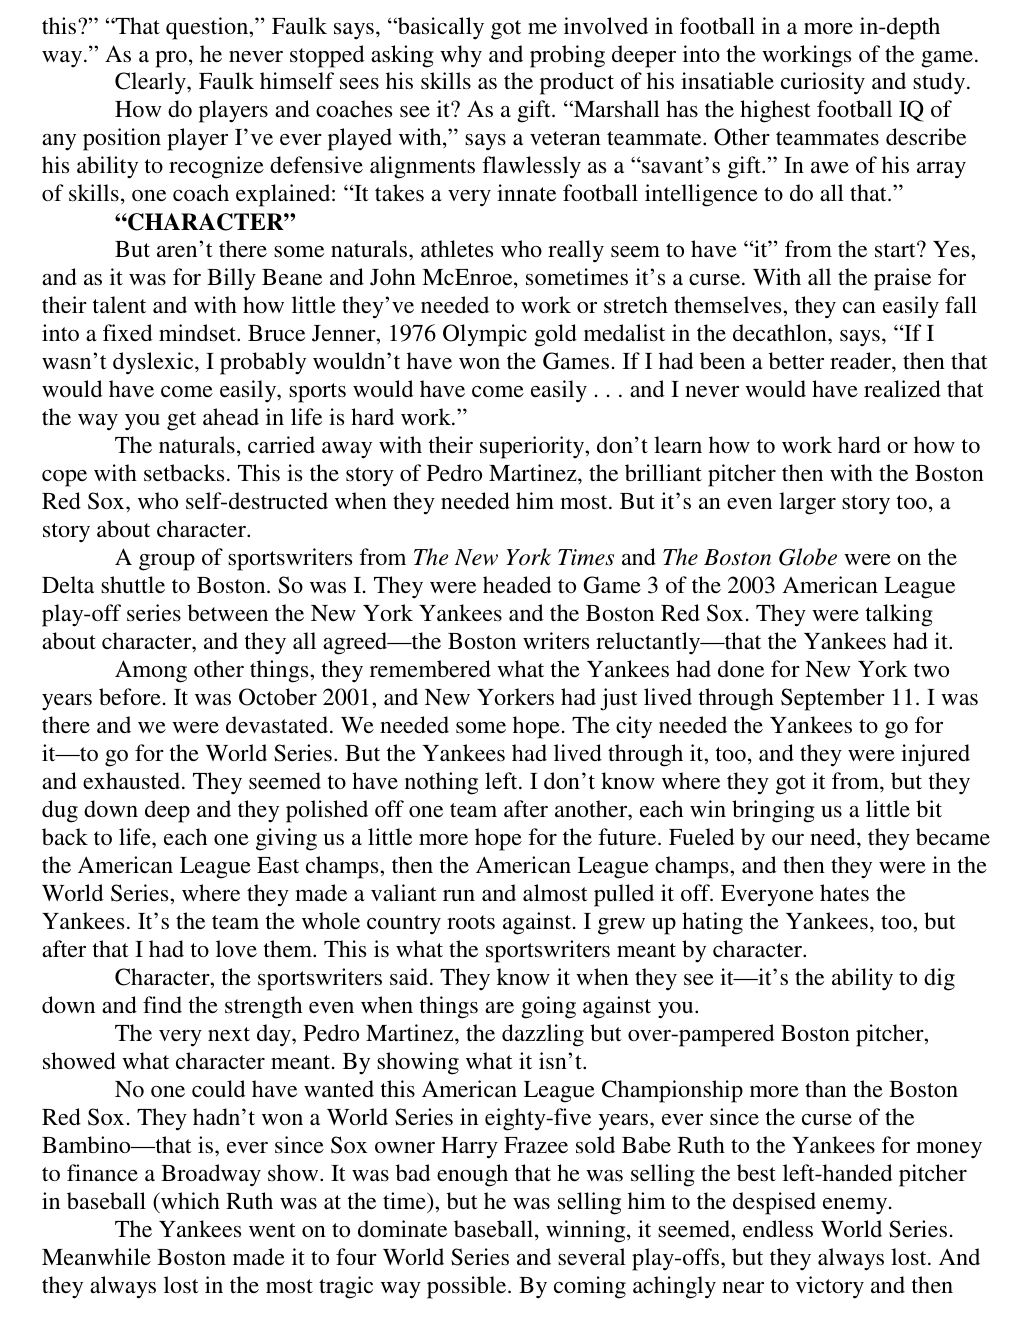latin: (30, 963, 990, 1302), (35, 653, 1003, 962), (39, 233, 995, 435), (38, 8, 980, 210), (37, 435, 992, 546), (33, 548, 979, 651), (112, 211, 297, 233)
